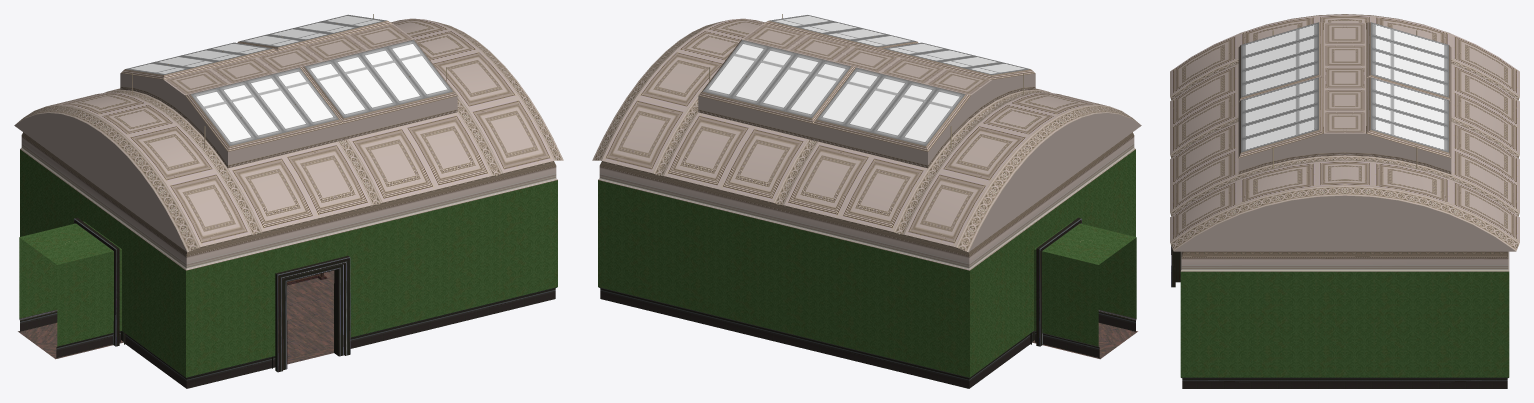
File: Room_04.dae
The picture shows the model from 3 angles, left to right: view 1: azimuth 30°, elevation 25°; view 2: azimuth 150°, elevation 25°; view 3: azimuth 270°, elevation 25°; orthographic projection.
Parts seen in each view (by area): view 1: Room_04 (×7); view 2: Room_04 (×7); view 3: Room_04 (×6).
Part boxes in pixels (x1,y1,x2,y2): Room_04 (×7): (14,14,563,388); Room_04 (×7): (592,15,1141,388); Room_04 (×6): (1170,14,1519,388).
Size of the model in its own units: 2811 by 1380 by 1955.
Materials: 13 (13 with a texture image).
